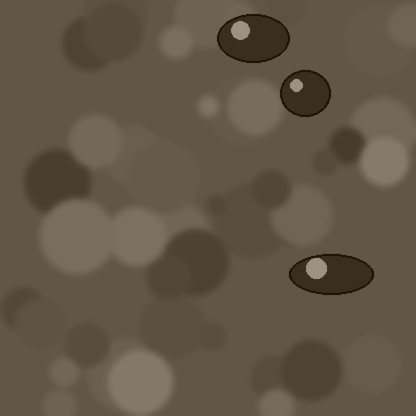gota: (217, 16, 289, 66), (289, 256, 373, 298), (280, 72, 330, 120)
